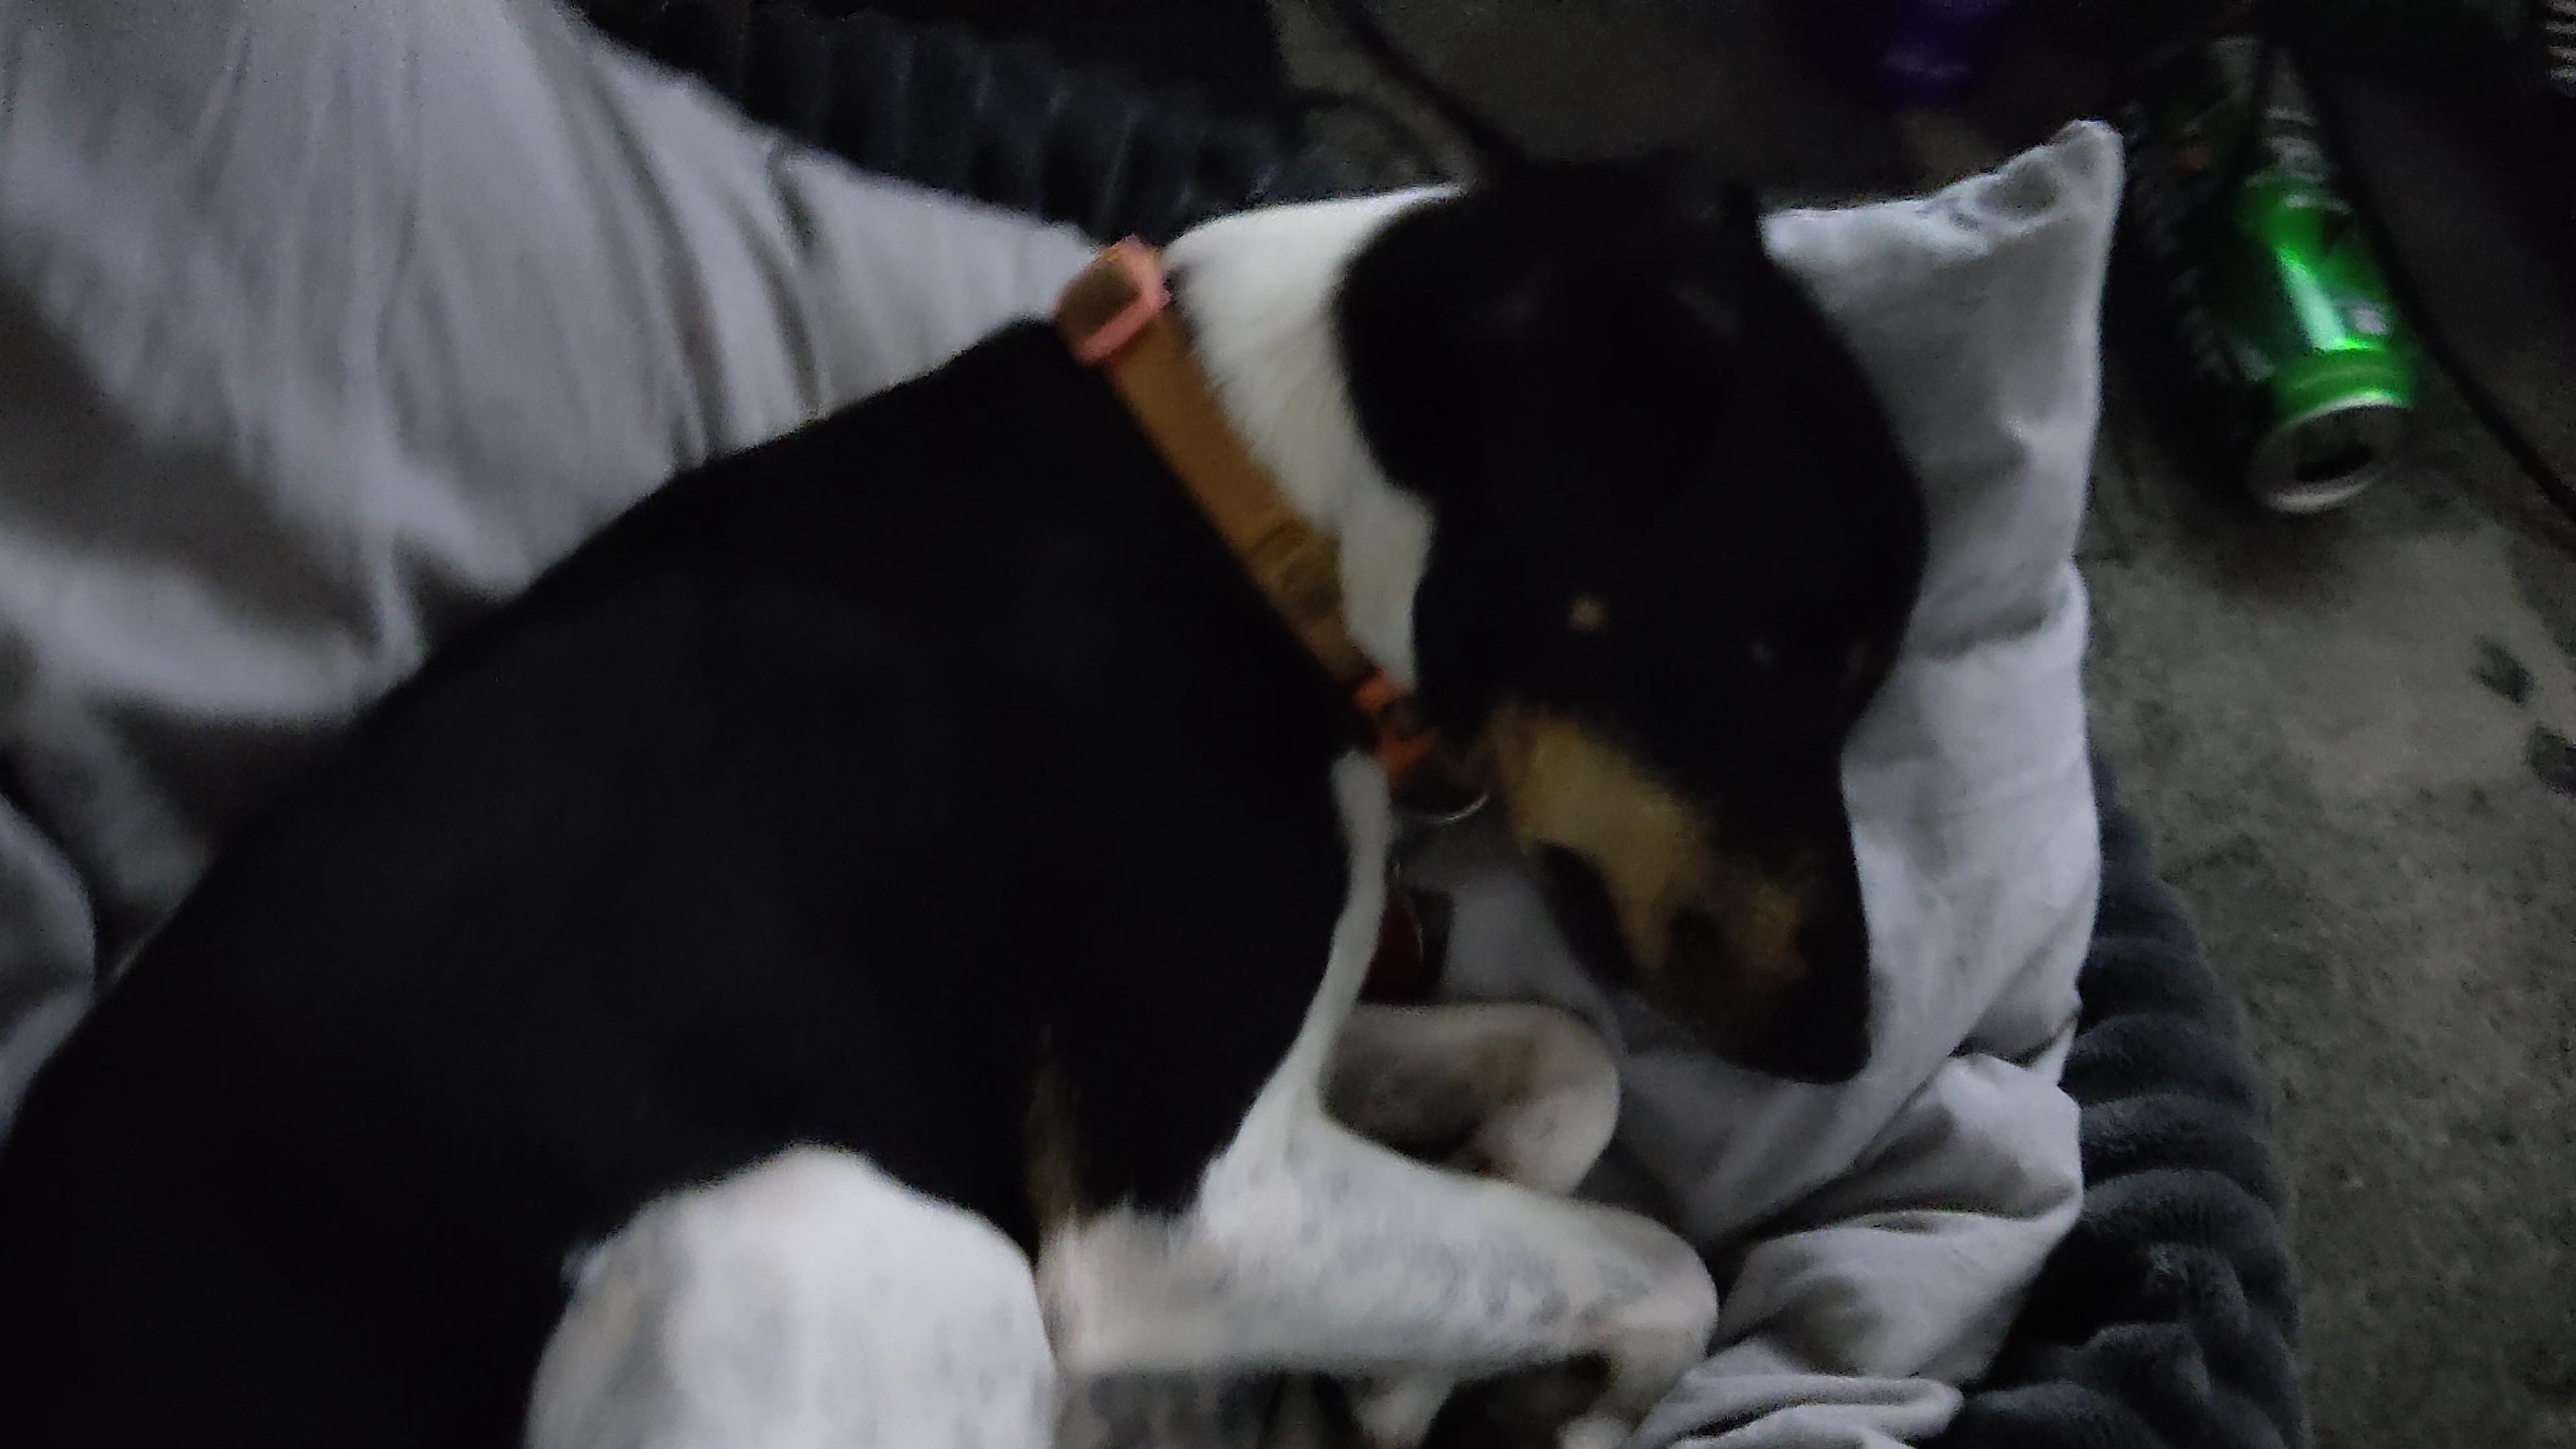Dog: (0, 127, 1959, 1449)
